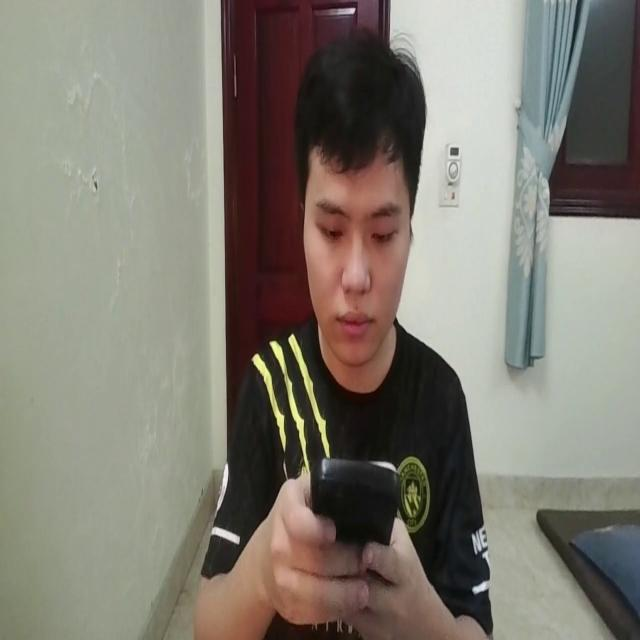phone: (308, 450, 403, 570)
student: (204, 24, 492, 640)
